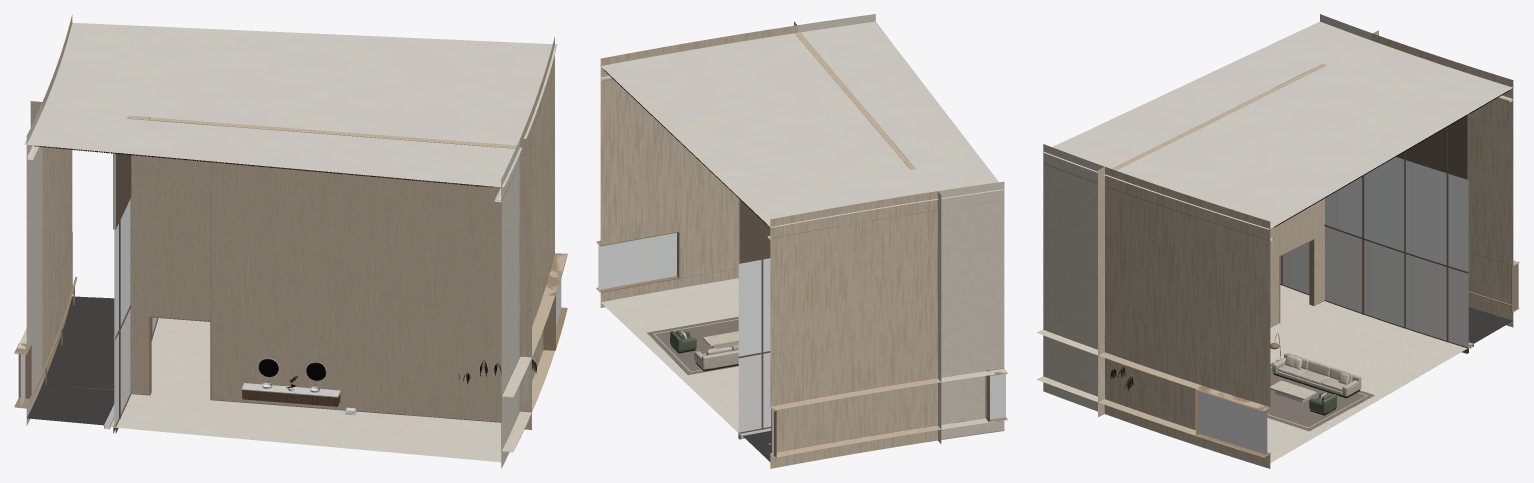
The picture shows the model from 3 angles, left to right: view 1: azimuth 30°, elevation 25°; view 2: azimuth 150°, elevation 25°; view 3: azimuth 270°, elevation 25°; orthographic projection. The views are drawn at different scales.
Visible parts, largest first — view 1: c1260, c1260 leaves; view 2: c1260; view 3: c1260, c1260 leaves.
Boxes of the visible parts, x1=… form: c1260: x1=14, y1=15, x2=567, y2=468; c1260 leaves: x1=34, y1=145, x2=536, y2=388; c1260: x1=596, y1=14, x2=1007, y2=468; c1260: x1=1036, y1=14, x2=1519, y2=468; c1260 leaves: x1=1110, y1=90, x2=1509, y2=390.
Size of the model in its own units: 24.56 by 13.2 by 23.38.
13 materials, 1 textured.
